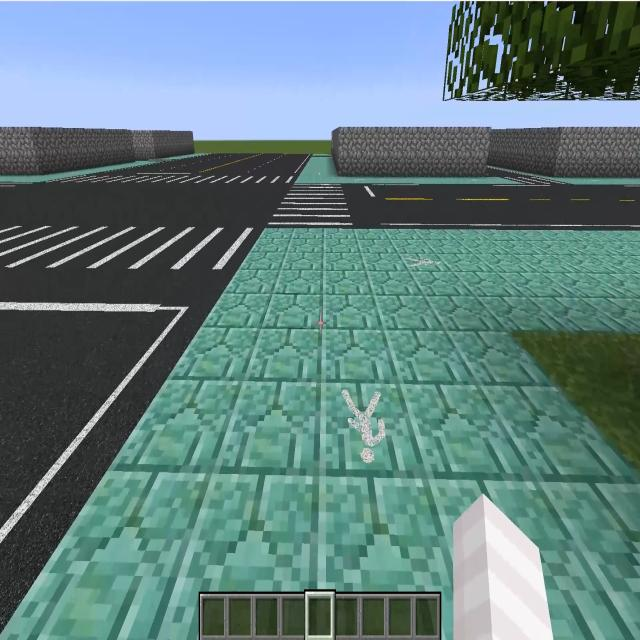crosswalk: (0, 215, 267, 279), (268, 185, 361, 226), (64, 169, 299, 184)
road: (5, 280, 225, 618), (348, 188, 638, 230), (3, 186, 277, 213), (139, 154, 310, 174)
sidewalk: (298, 155, 513, 184), (297, 156, 512, 184), (0, 154, 205, 183)
